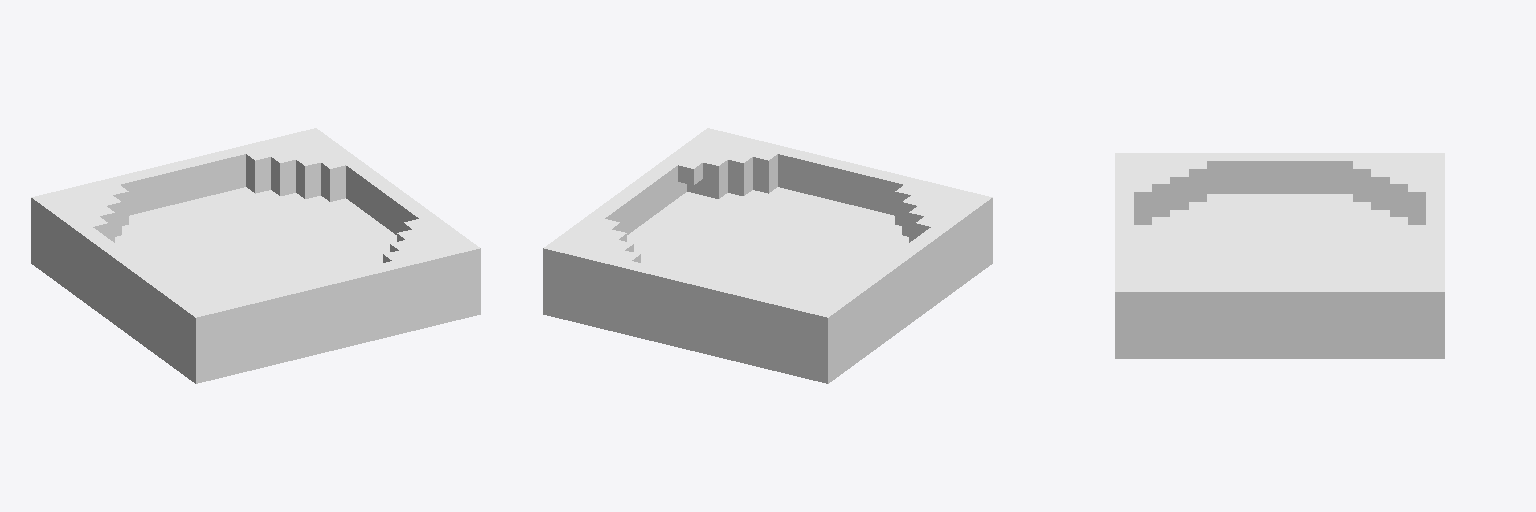
The model's file is robot_ground-4.obj.
3 renders of one model, left to right at view 1: azimuth 30°, elevation 25°; view 2: azimuth 150°, elevation 25°; view 3: azimuth 270°, elevation 25°, orthographic.
Visible parts, largest first — view 1: object 1; view 2: object 1; view 3: object 1.
Part boxes in pixels (bbox=[...]): object 1: bbox=[31, 128, 480, 383]; object 1: bbox=[543, 128, 992, 383]; object 1: bbox=[1115, 153, 1444, 358].
Size of the model in its own units: 1.8 by 0.4 by 1.8.